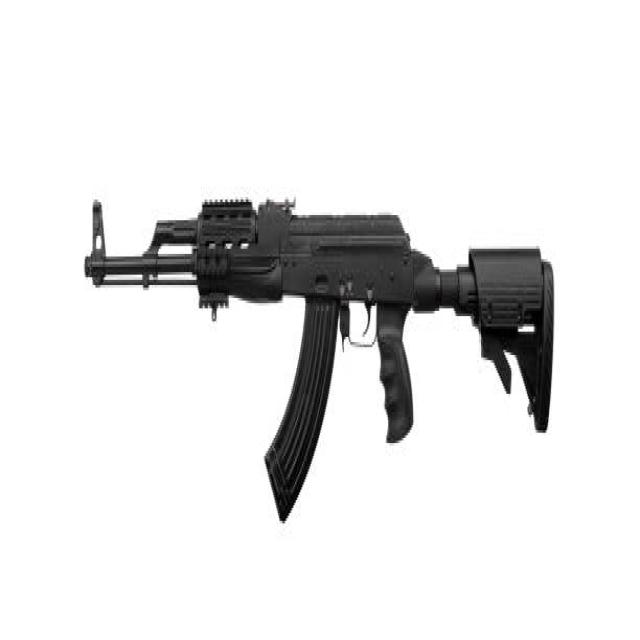rifle: (81, 160, 561, 530)
